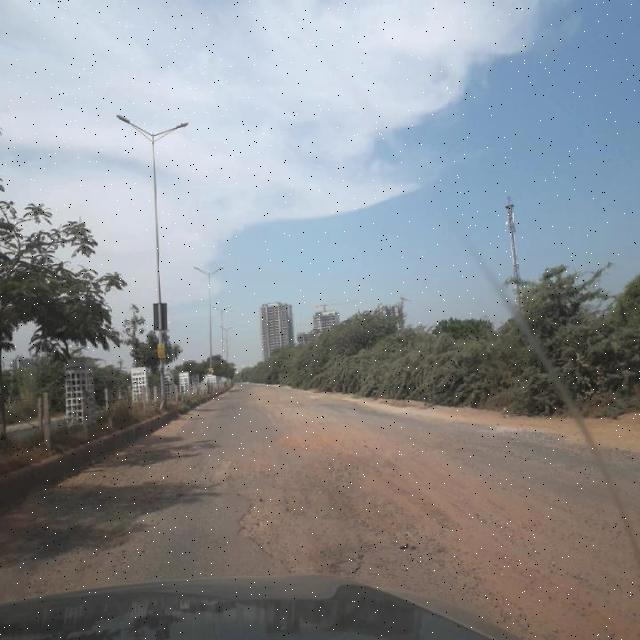D40: (217, 423, 482, 574), (17, 437, 227, 576)
